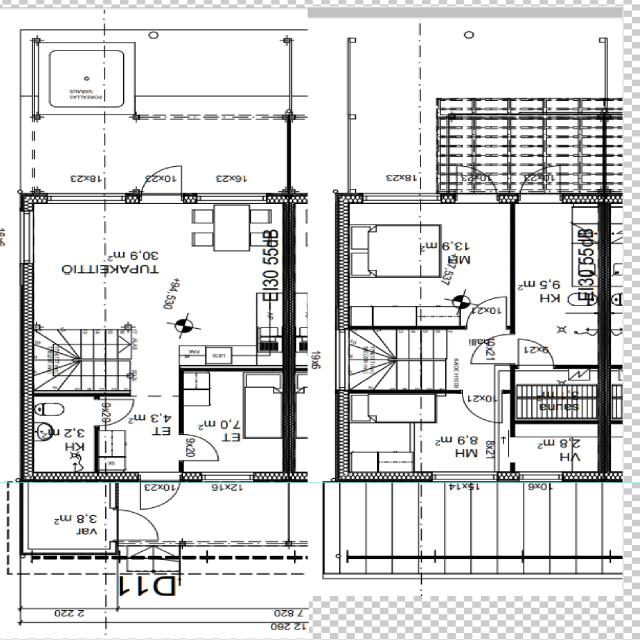door: (454, 159, 498, 204), (518, 162, 560, 204), (140, 161, 180, 203), (108, 510, 160, 540), (140, 471, 178, 510), (467, 295, 507, 329), (462, 389, 501, 422), (473, 335, 516, 363), (179, 434, 220, 461), (94, 400, 134, 427), (518, 338, 554, 368)
